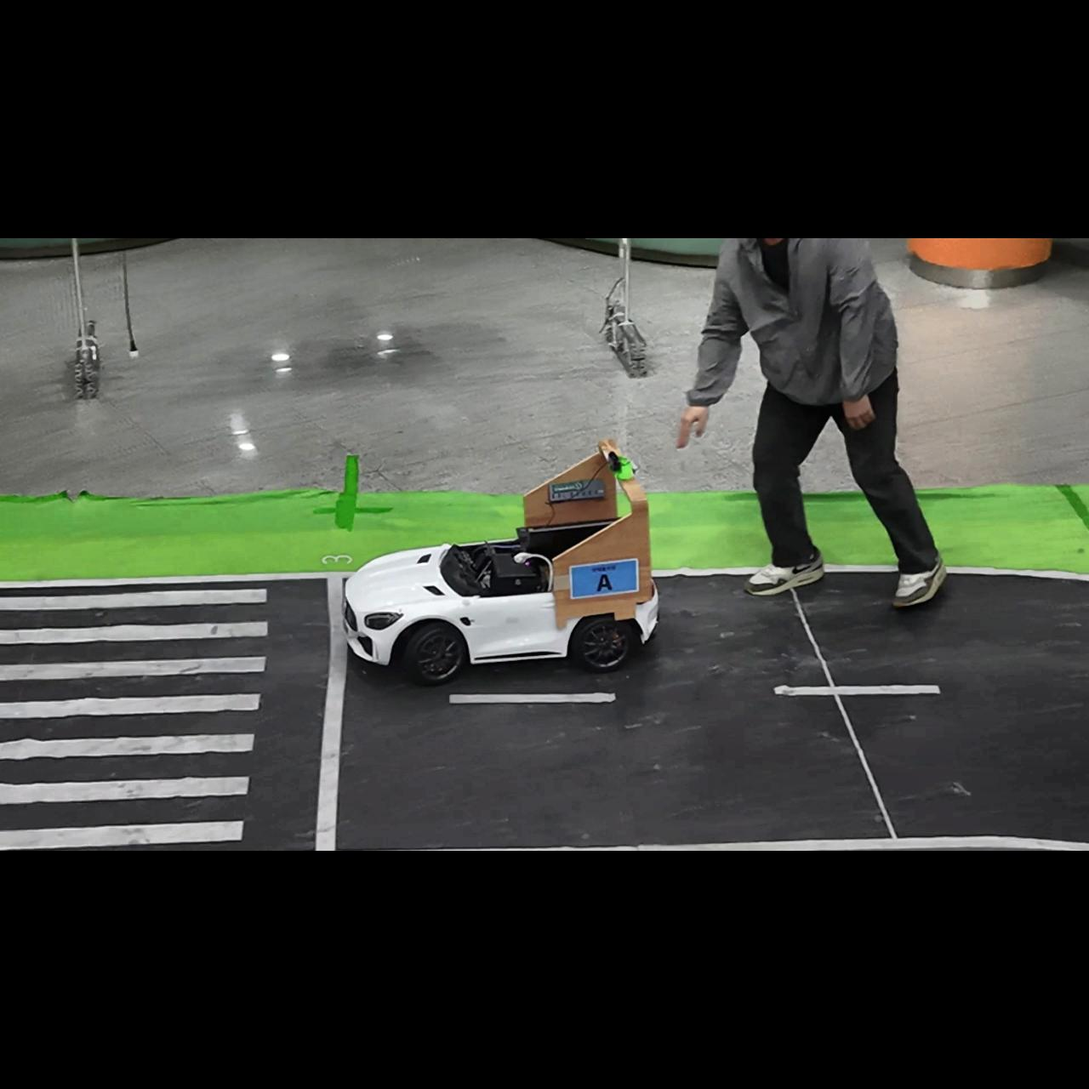broken_line: (773, 685, 941, 696), (449, 692, 616, 703)
crosswalk: (0, 589, 268, 850)
